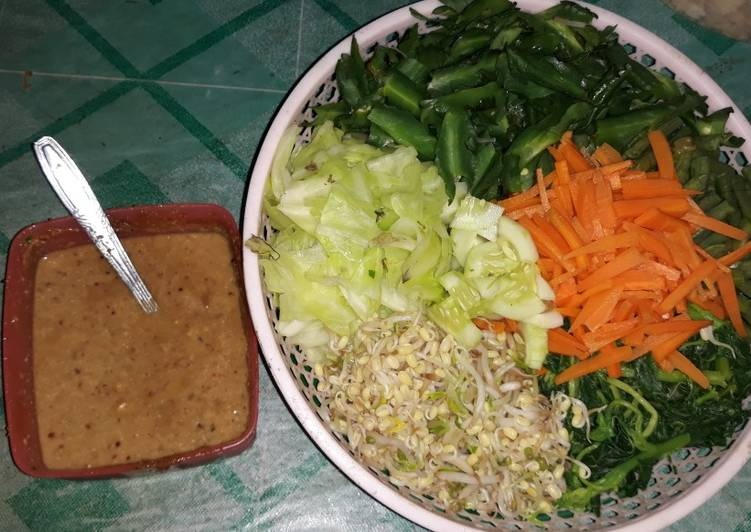pecel: (250, 7, 749, 486)
